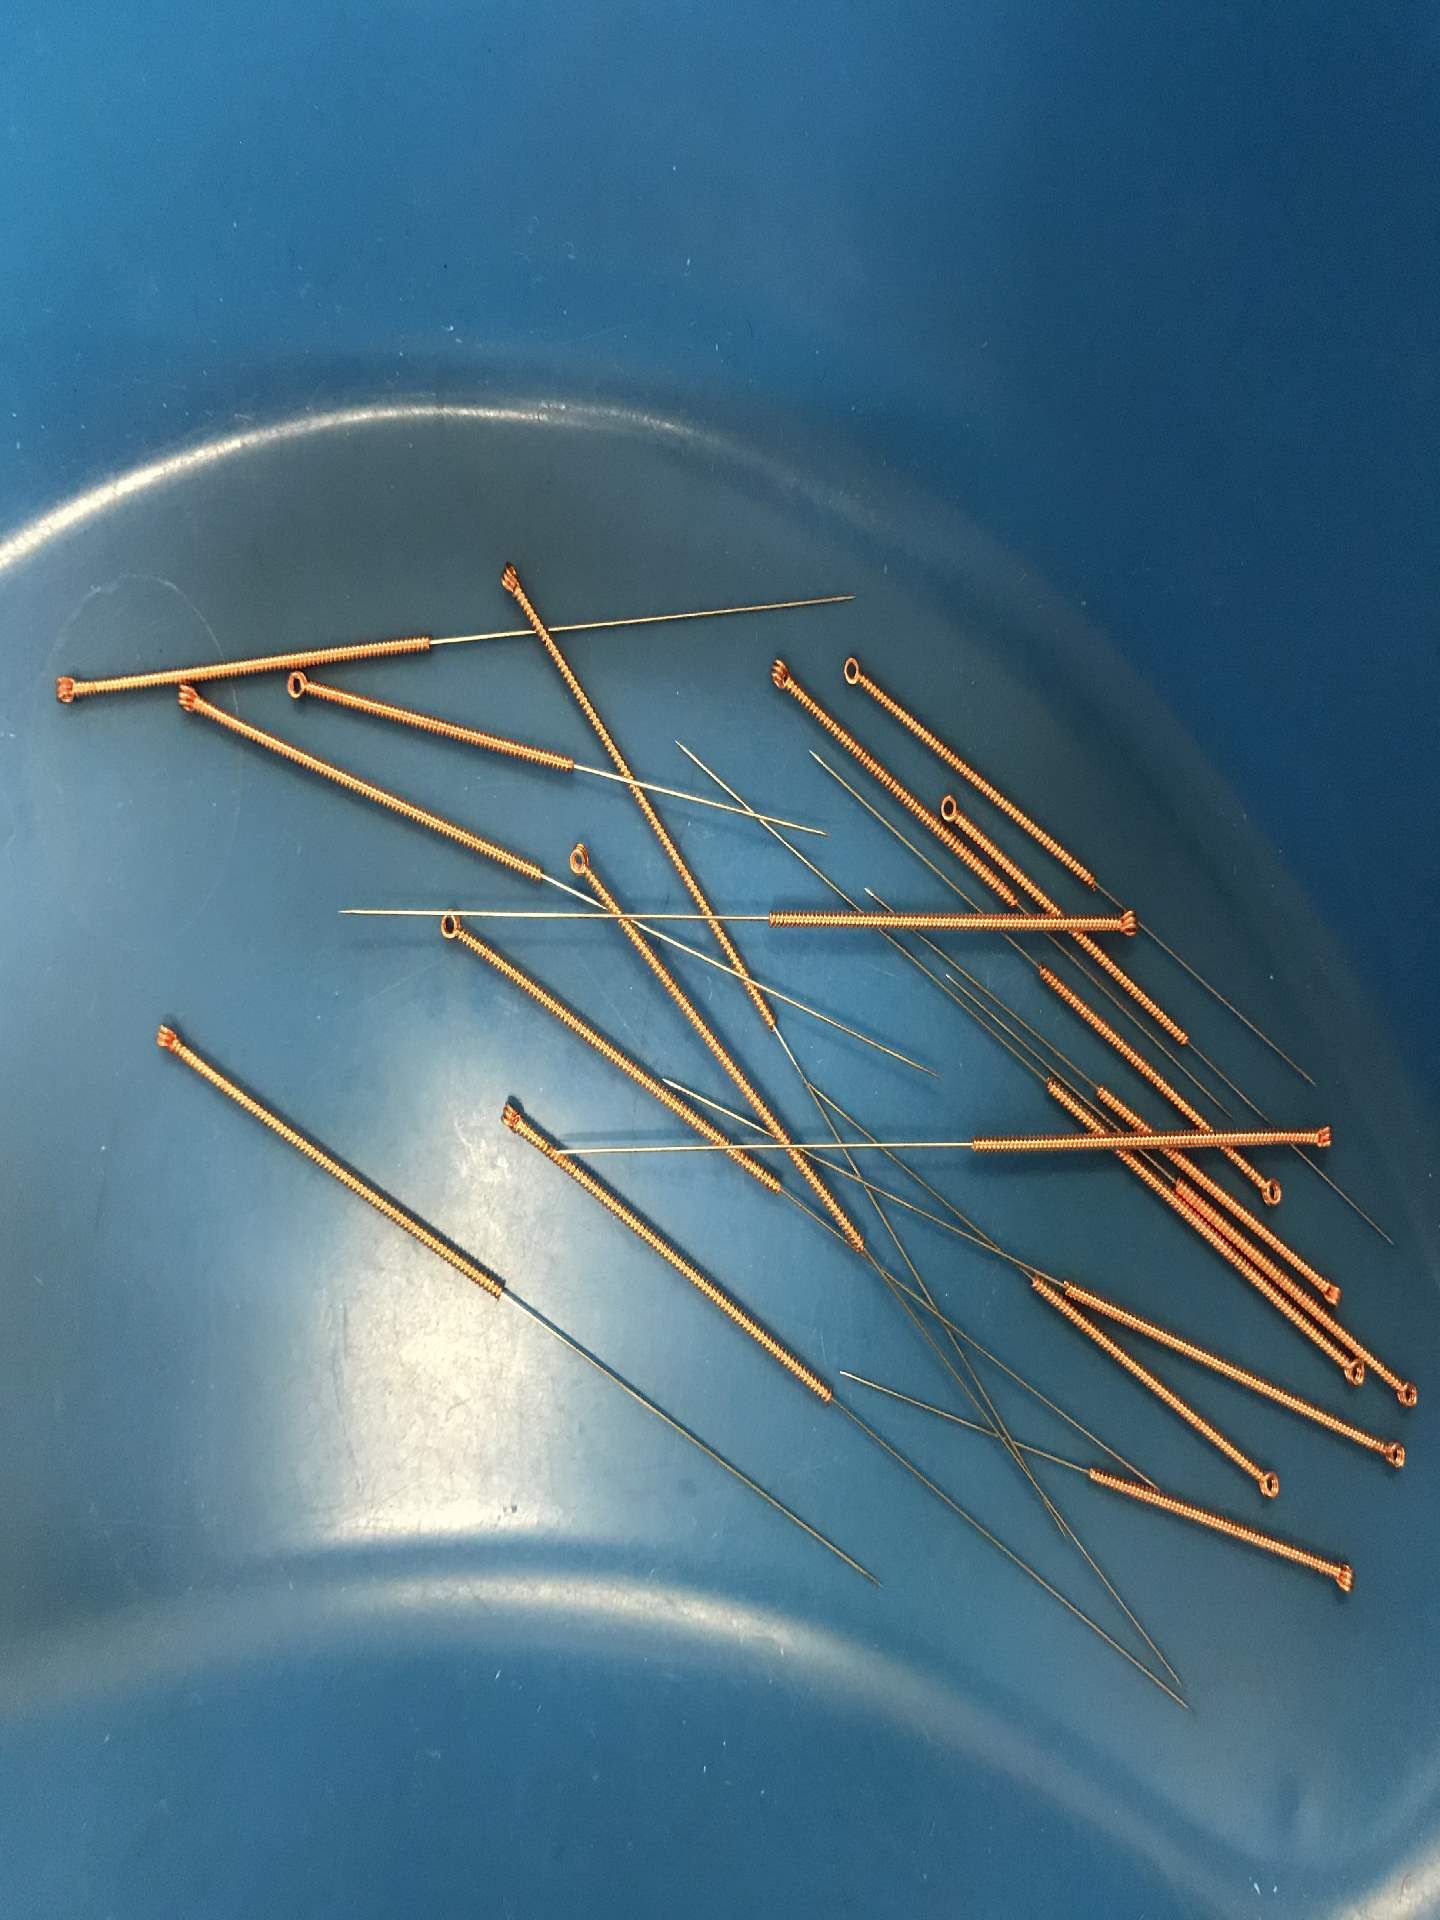needle: (41, 664, 95, 717), (486, 550, 534, 608), (144, 1011, 195, 1064), (160, 683, 218, 726), (486, 1092, 532, 1141), (1242, 1457, 1289, 1507), (428, 906, 476, 952), (1296, 1113, 1345, 1160), (756, 653, 803, 698), (1322, 1553, 1364, 1603), (563, 835, 602, 887), (1246, 1169, 1290, 1215), (1367, 1435, 1414, 1479), (1104, 901, 1150, 943), (272, 670, 322, 708), (1386, 1374, 1423, 1417), (832, 652, 871, 691), (1331, 1356, 1370, 1391), (1314, 1271, 1346, 1312), (936, 791, 965, 825)
